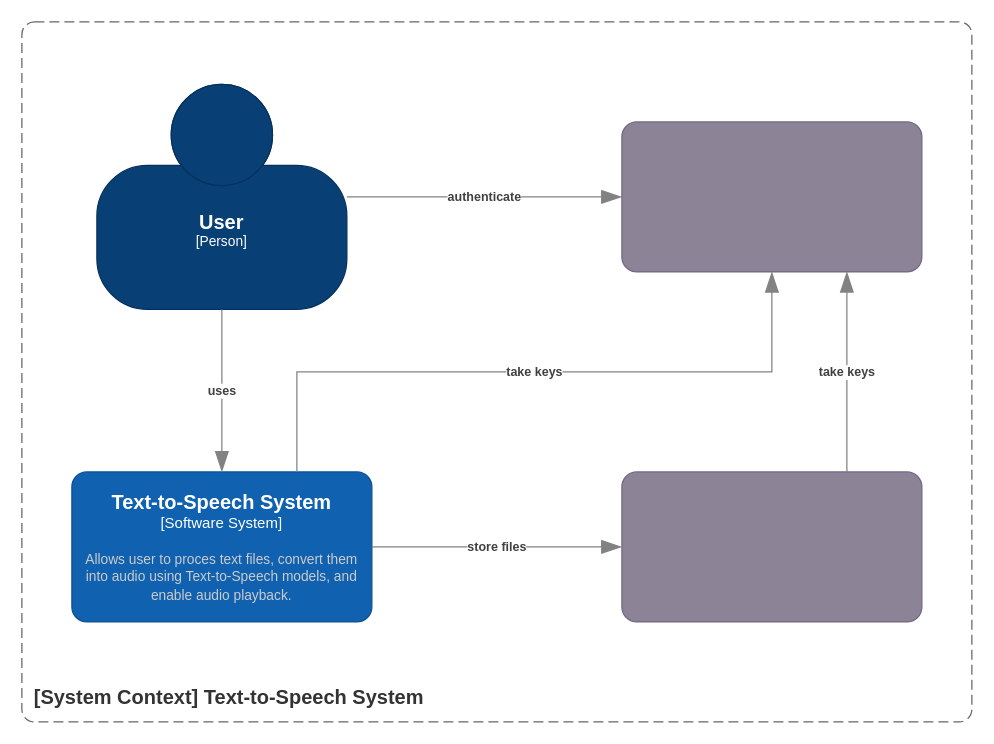
Some shapes in this 994 by 744 pixel diagram are drawn without their labels. Each missing label, with the centre of its shape:
File Storage [Software System] Allows to store files: the point at 771,546
Identity and AccessManagement (IAM) [Software System]: the point at 771,196
